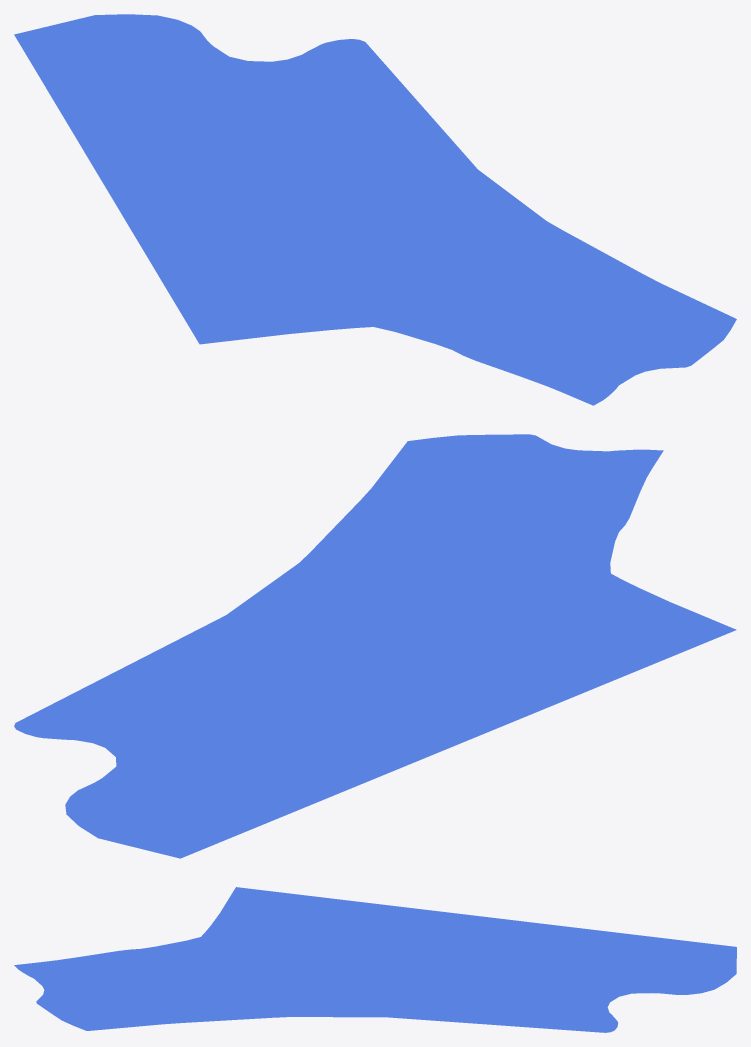
File: Sea.FBX
3 renders of one model, top to bottom at view 1: azimuth 30°, elevation 25°; view 2: azimuth 150°, elevation 25°; view 3: azimuth 270°, elevation 25°, orthographic. The views are drawn at different scales.
Parts seen in each view (by area): view 1: Sea; view 2: Sea; view 3: Sea.
Boxes of the visible parts, x1=… form: Sea: x1=14, y1=14, x2=736, y2=405; Sea: x1=14, y1=434, x2=736, y2=858; Sea: x1=14, y1=887, x2=736, y2=1032.
Bounding box in the file's own units: 85.17 × 1.59e-05 × 178.
